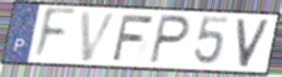5: (191, 14, 231, 68)
F: (31, 6, 78, 63), (110, 13, 156, 62)
P: (147, 13, 192, 66)
V: (78, 10, 120, 63), (235, 18, 272, 69)
